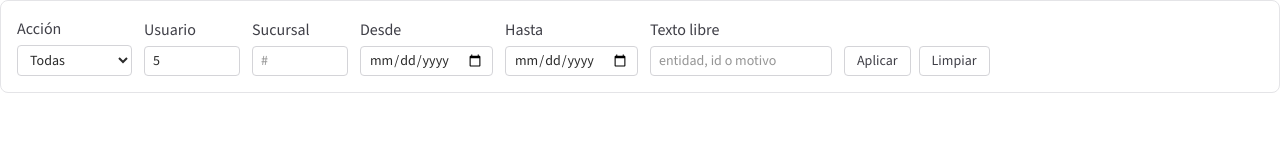
it: AuditFilters (AC-3 combinable dispatch, submit disable while busy) › 'Limpiar' clears the fields AND navigates to the base URL (never optimistic local-only)
expect the field labelled "Usuario" holds "5": met, box [144,46,240,76]
Click the button with aria-label "Limpiar filtros". click: (954, 61)
box: [919,46,990,76]
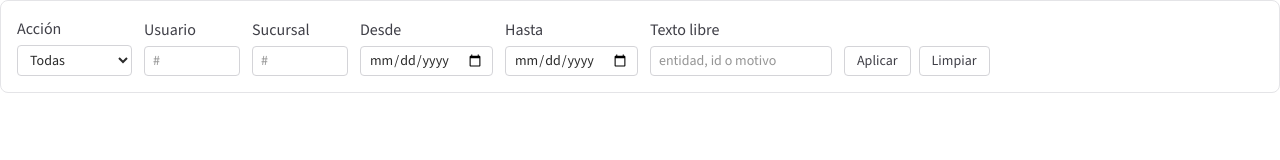
expect the field labelled "Usuario" is empty: met, box [144,46,240,76]
